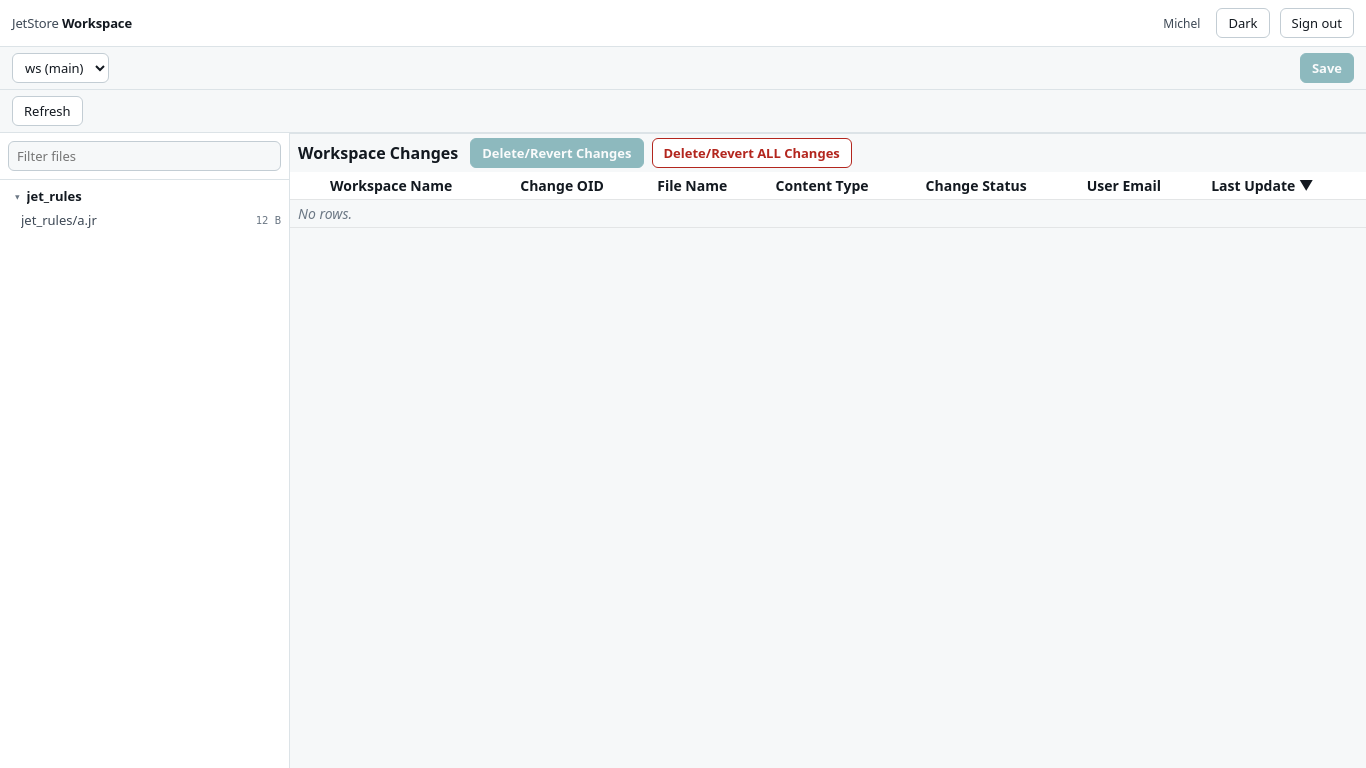
Test: Refresh on the Workspace IDE toolbar › re-reads the tree and the toolbar's row, and keeps the open tab
Click the button titled "jet_rules/a.jr".
click(59, 220)  # box [0,208,289,232]
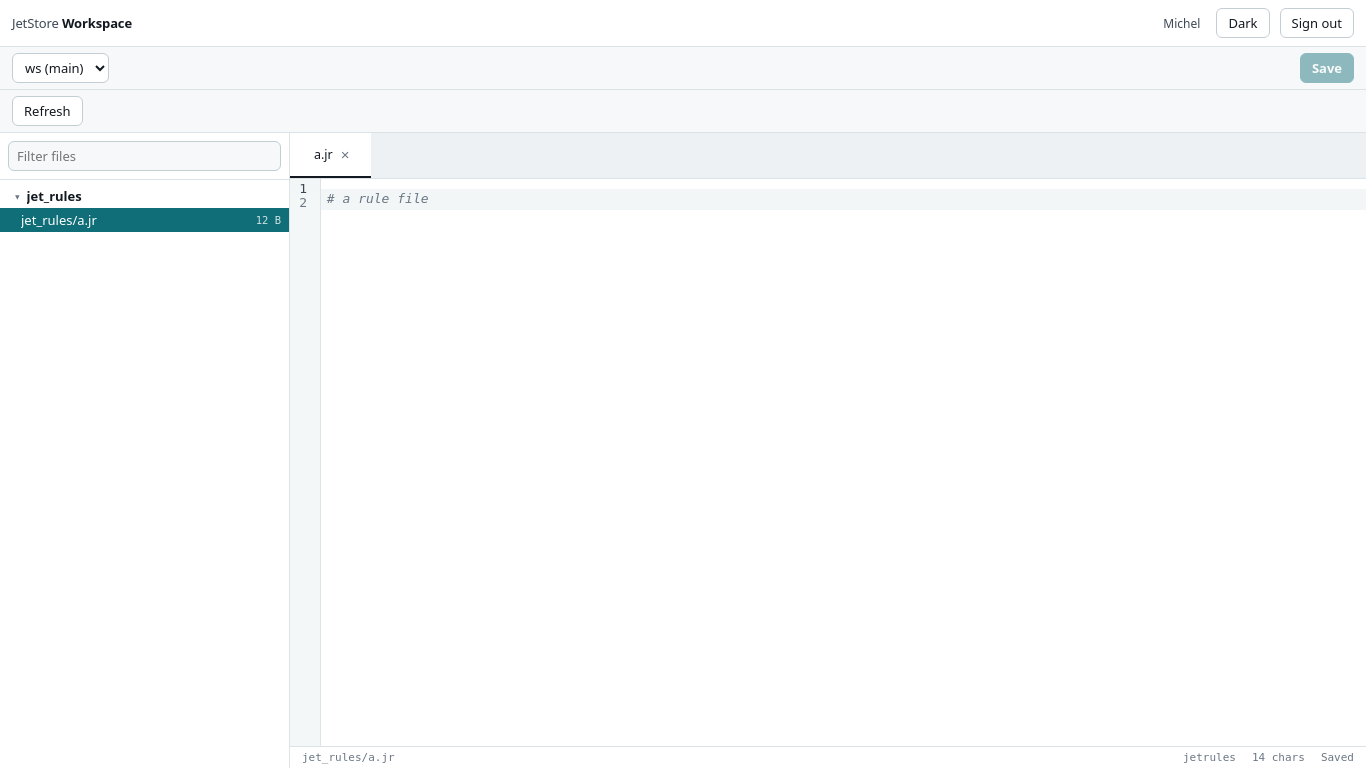
Now the button named "Close jet_rules/a.jr" is shown, box [339,147,359,162]
Click the button "Refresh".
click(47, 111)  # box [12,96,83,126]
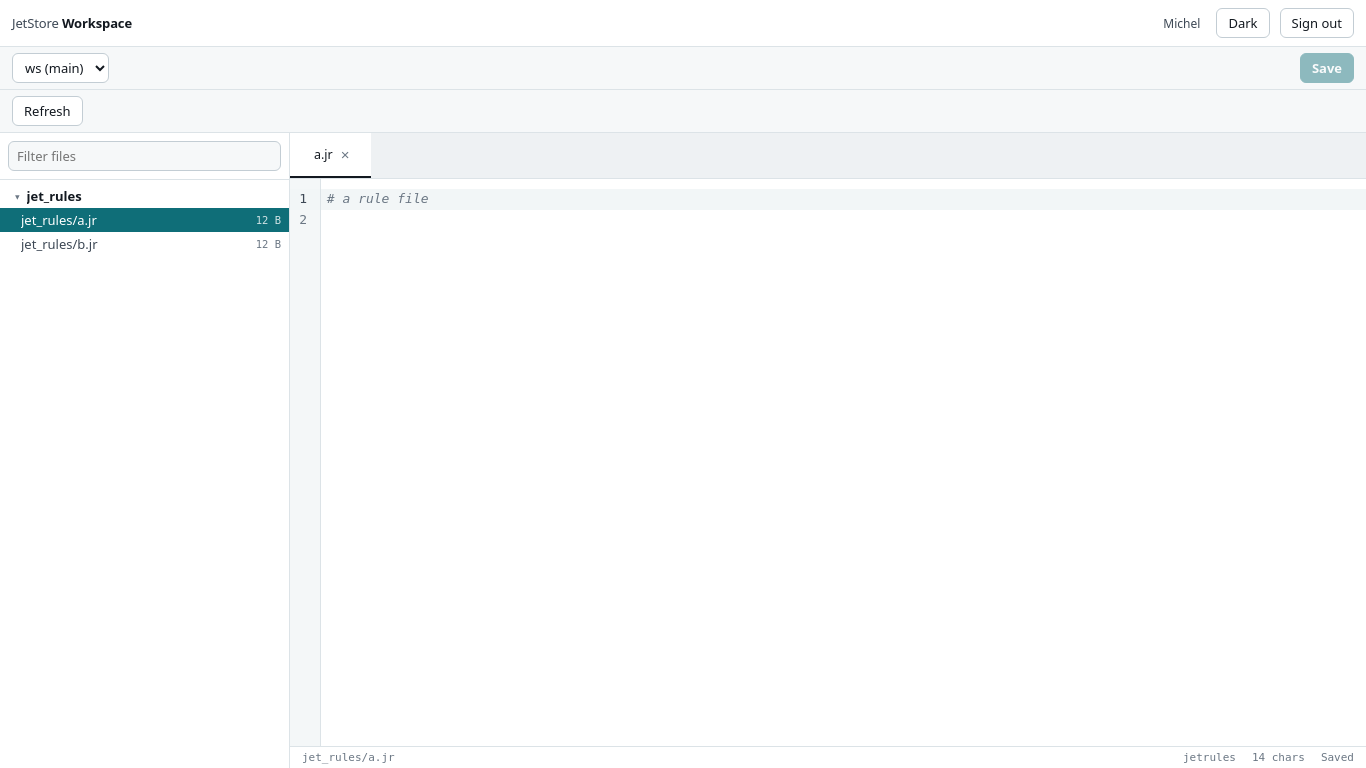
Now the button named "Close jet_rules/a.jr" is shown, box [339,147,359,162]
Now the button titled "jet_rules/b.jr" is shown, box [0,232,289,256]
